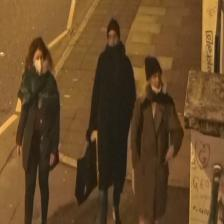person: (85, 18, 135, 224), (130, 55, 184, 224), (15, 37, 60, 224)
